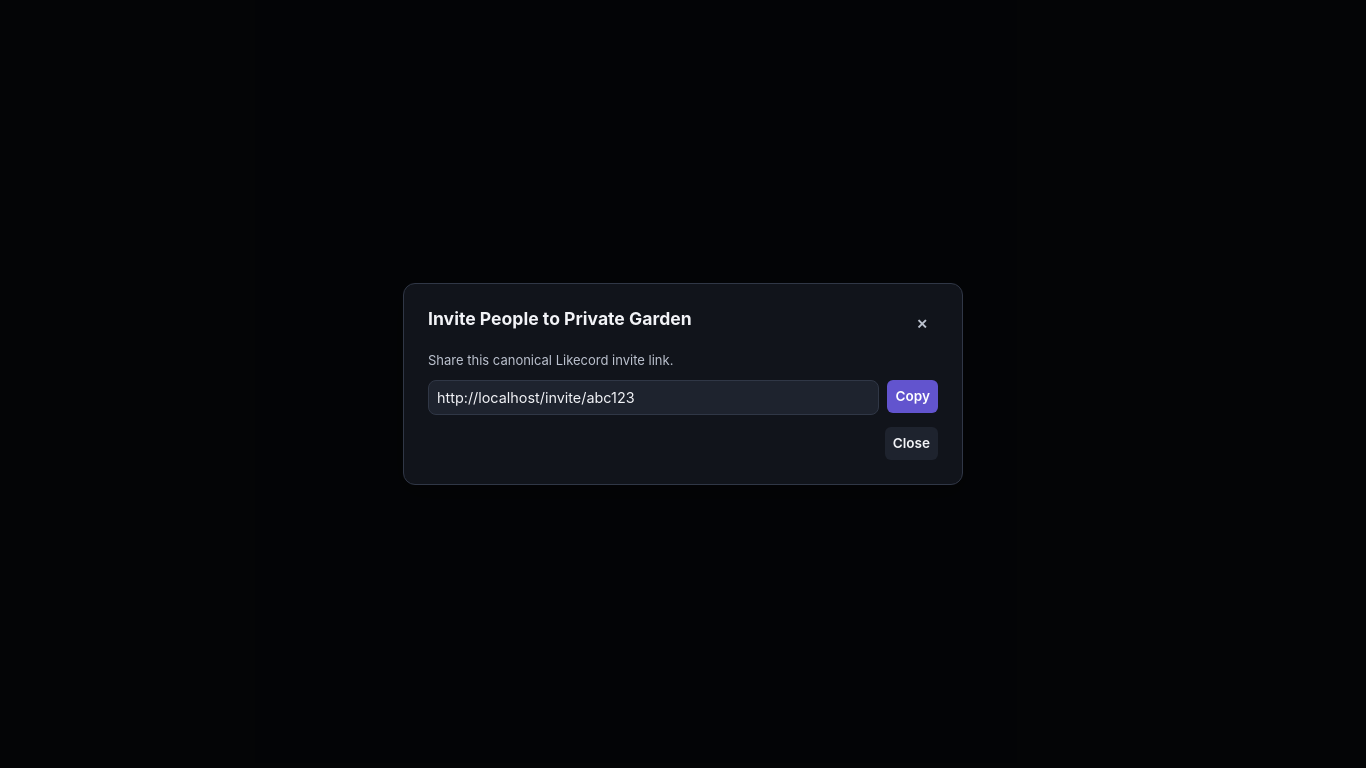
Test: F.5.3 canonical Invite People modal › keeps the link selectable and shows recovery guidance when Clipboard fails
Click the button "Copy": click(913, 396) [888,380,938,413]
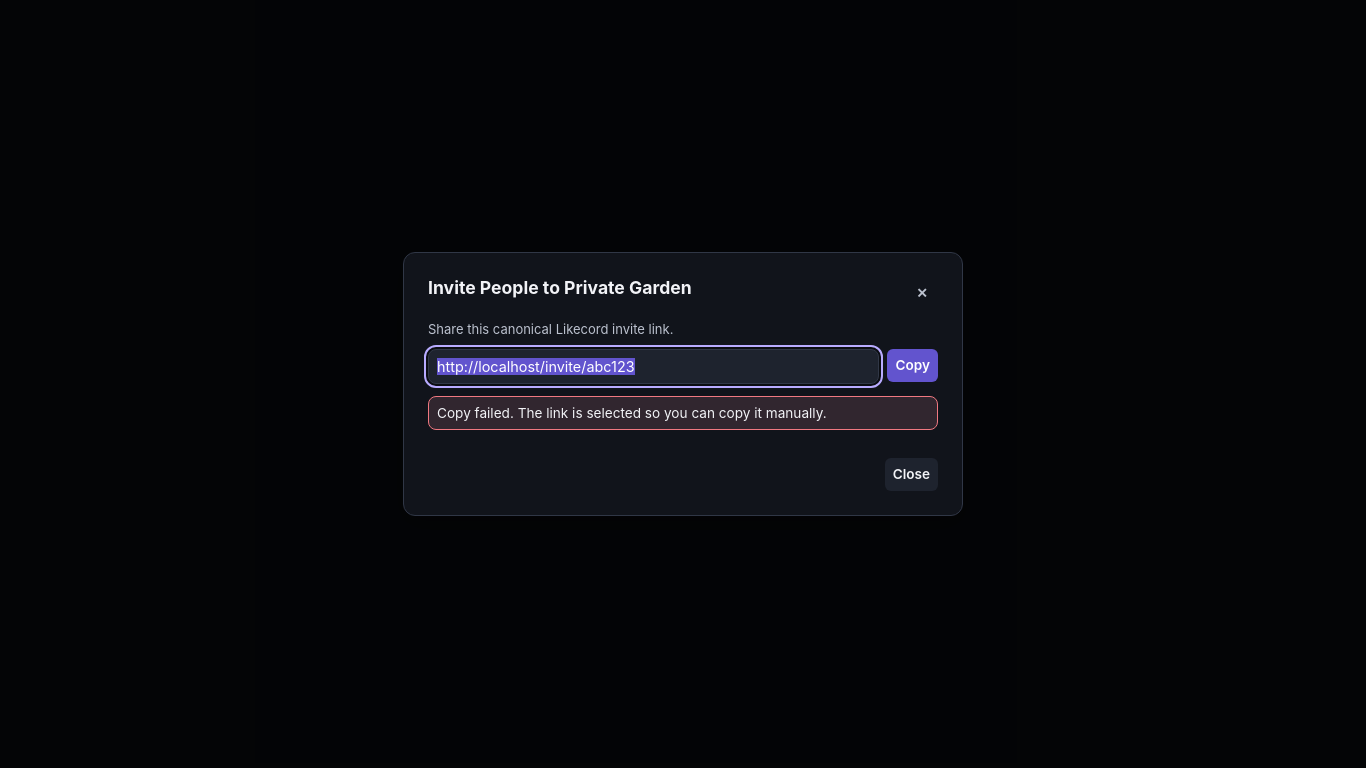
Expected: the message shows "selected so you can copy it manually", [437,405,827,421]
